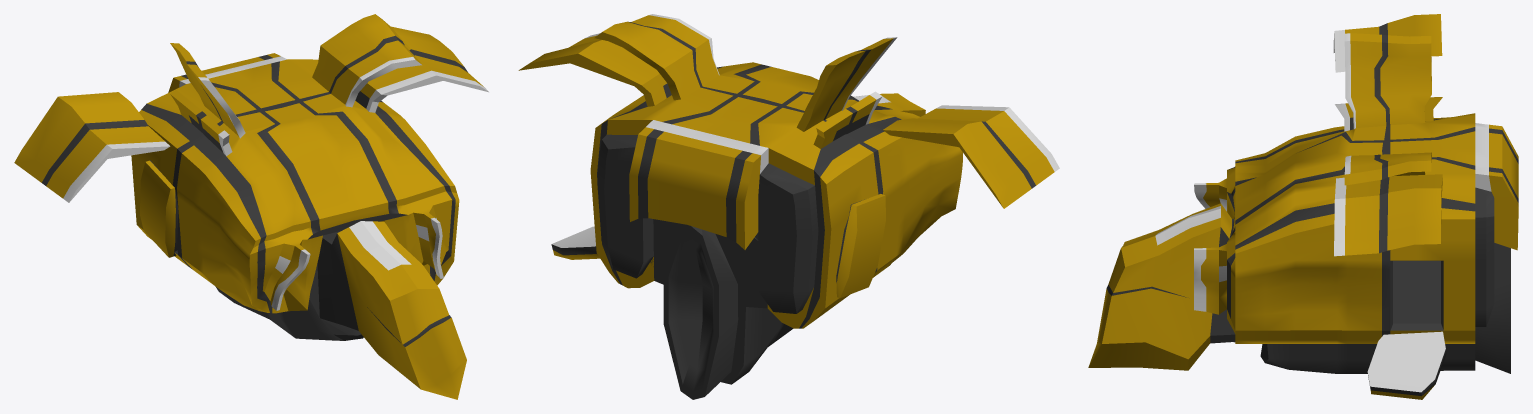
The model's file is ship_BO_.fbx.
The picture shows the model from 3 angles, left to right: view 1: azimuth 30°, elevation 25°; view 2: azimuth 150°, elevation 25°; view 3: azimuth 270°, elevation 25°; orthographic projection. The views are drawn at different scales.
Parts seen in each view (by area): view 1: Ship_003, Ship_Main1; view 2: Ship_003, Ship_Main1; view 3: Ship_003, Ship_Main1.
Part boxes in pixels (x1=…): Ship_003: x1=131, y1=14, x2=488, y2=399; Ship_Main1: x1=14, y1=92, x2=170, y2=202; Ship_003: x1=518, y1=14, x2=962, y2=399; Ship_Main1: x1=883, y1=105, x2=1059, y2=208; Ship_003: x1=1088, y1=33, x2=1518, y2=399; Ship_Main1: x1=1333, y1=14, x2=1442, y2=72.
Size of the model in its own units: 1430 by 920 by 1219.
